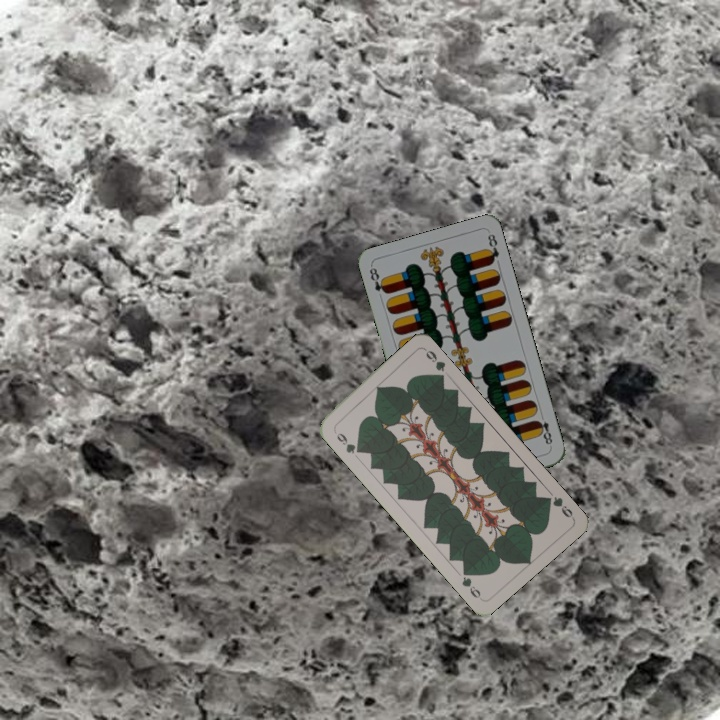E8: (532, 410, 555, 450), (365, 264, 390, 297)
G9: (540, 492, 576, 521), (332, 429, 364, 457)
